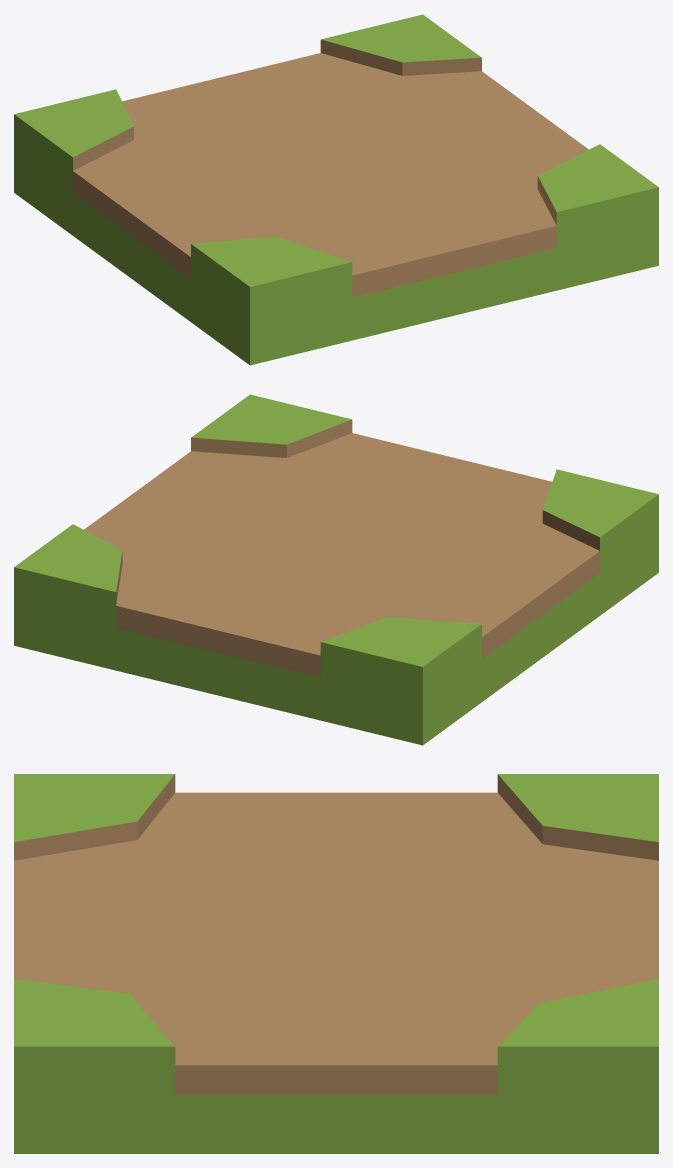
File: tile211.dae
3 renders of one model, top to bottom at view 1: azimuth 30°, elevation 25°; view 2: azimuth 150°, elevation 25°; view 3: azimuth 270°, elevation 25°, orthographic. The views are drawn at different scales.
Parts seen in each view (by area): view 1: tile211; view 2: tile211; view 3: tile211.
Part boxes in pixels (x1=…): tile211: x1=14, y1=14, x2=658, y2=365; tile211: x1=14, y1=394, x2=658, y2=745; tile211: x1=14, y1=774, x2=658, y2=1153.
Bounding box in the file's own units: 1 × 0.1833 × 1.
